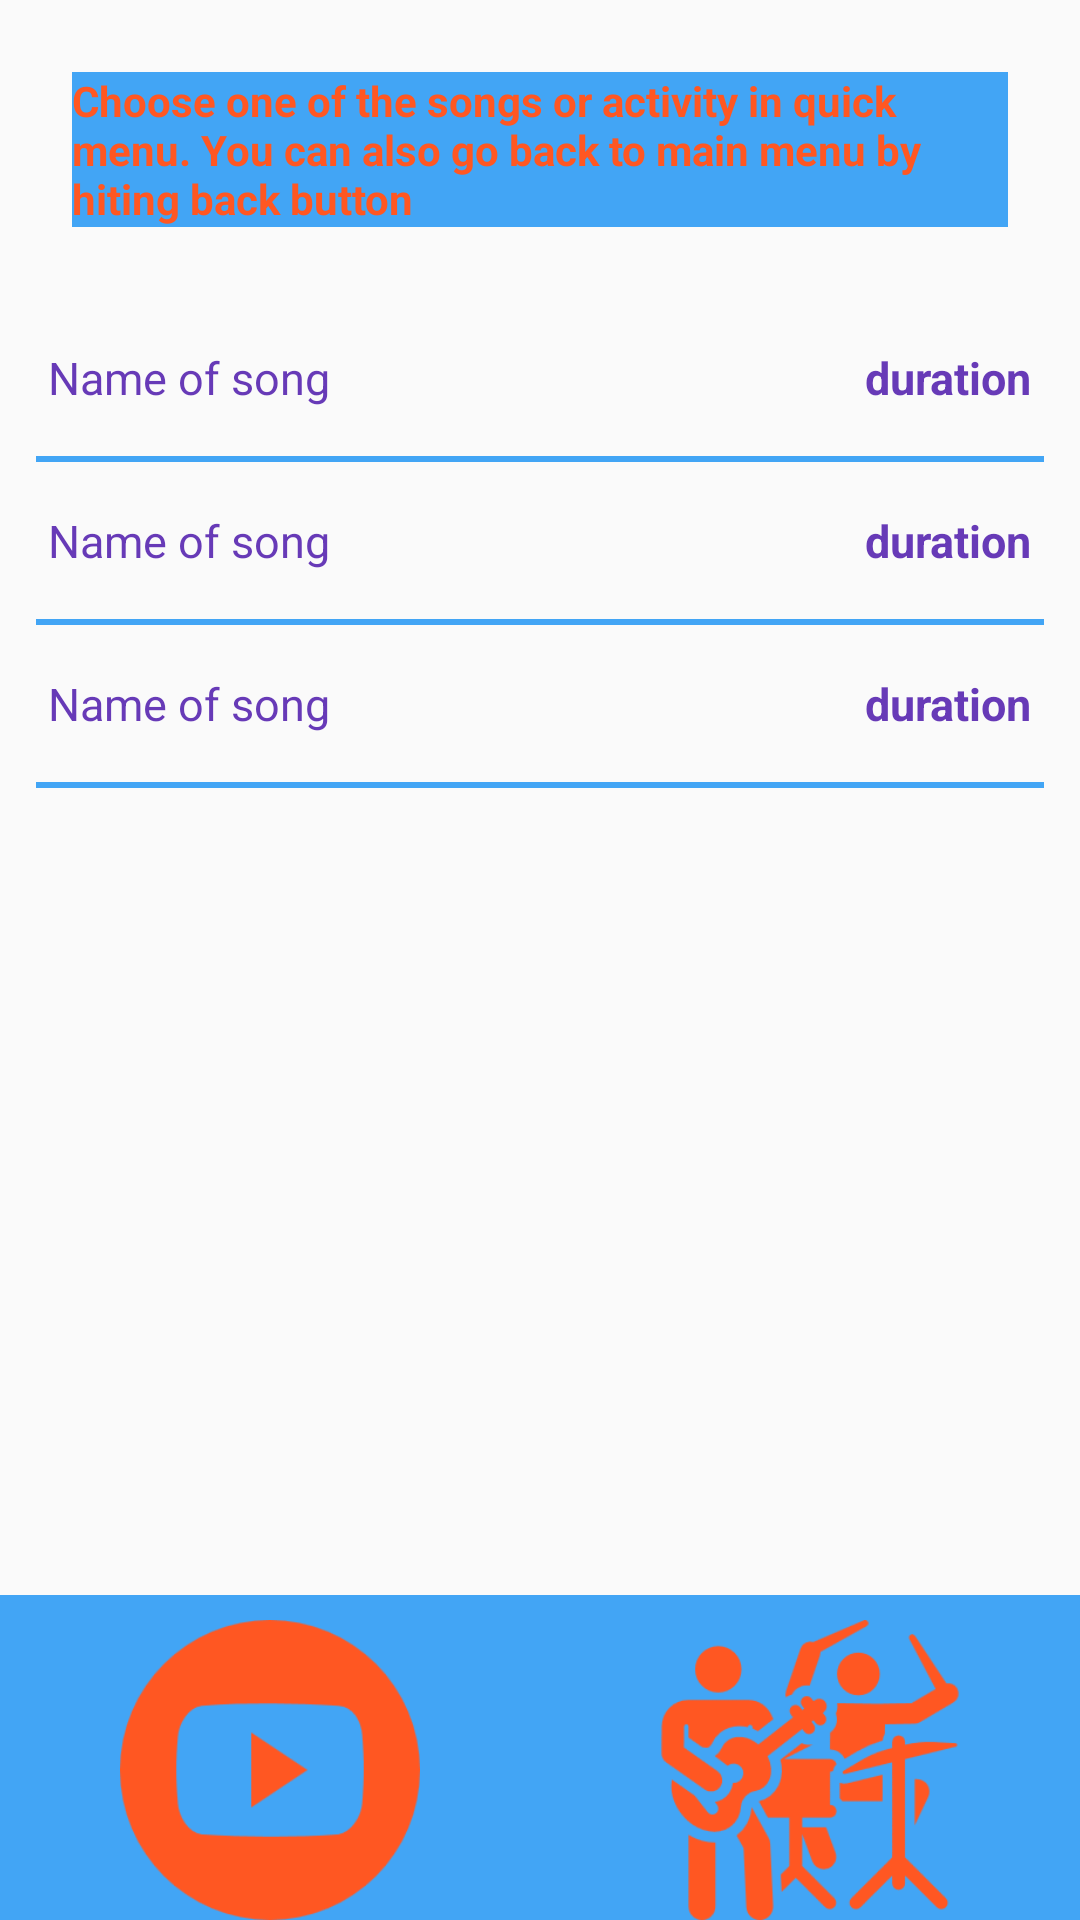

Where to tap for icons on this 1080×1920 app screen, as (x,y):
artist: (810,1770)
